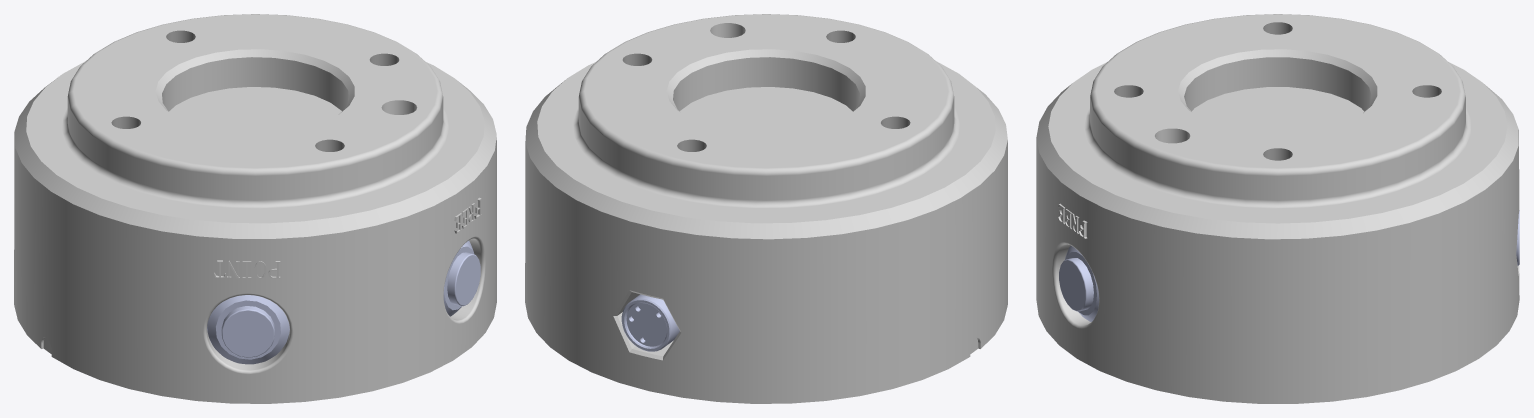
File: wrist_3_link.DAE
3 renders of one model, left to right at view 1: azimuth 30°, elevation 25°; view 2: azimuth 150°, elevation 25°; view 3: azimuth 270°, elevation 25°, orthographic.
Visible parts, largest first — view 1: stitch_result_stitchFBXASC032all_ncl1_3; view 2: stitch_result_stitchFBXASC032all_ncl1_3, stitch_result_stitchFBXASC032all_ncl1_2; view 3: stitch_result_stitchFBXASC032all_ncl1_3.
Boxes of the visible parts, x1,y1,x2,y2 form: stitch_result_stitchFBXASC032all_ncl1_3: (14, 14, 496, 403); stitch_result_stitchFBXASC032all_ncl1_3: (525, 14, 1007, 403); stitch_result_stitchFBXASC032all_ncl1_2: (621, 294, 679, 351); stitch_result_stitchFBXASC032all_ncl1_3: (1036, 14, 1519, 403).
Bounding box in the file's own units: 3.19 × 3.19 × 1.54.
